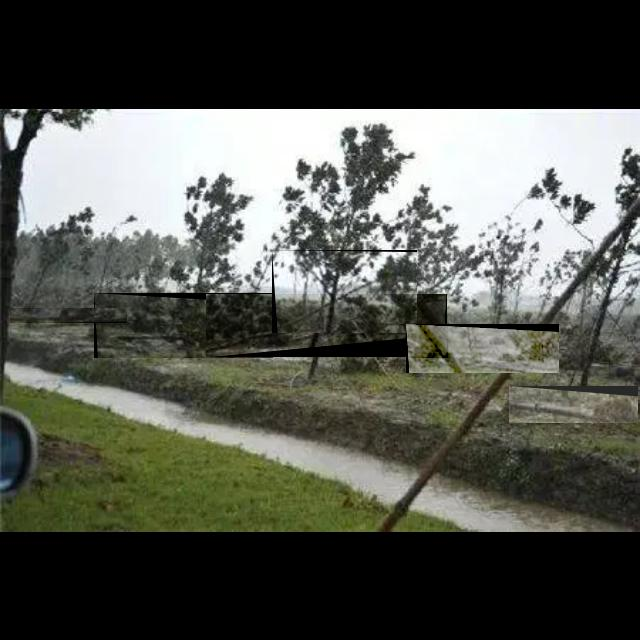Fallen Tree: (206, 294, 448, 358), (272, 250, 418, 334), (94, 293, 274, 359), (406, 324, 560, 374), (509, 386, 639, 424), (10, 308, 128, 324)
